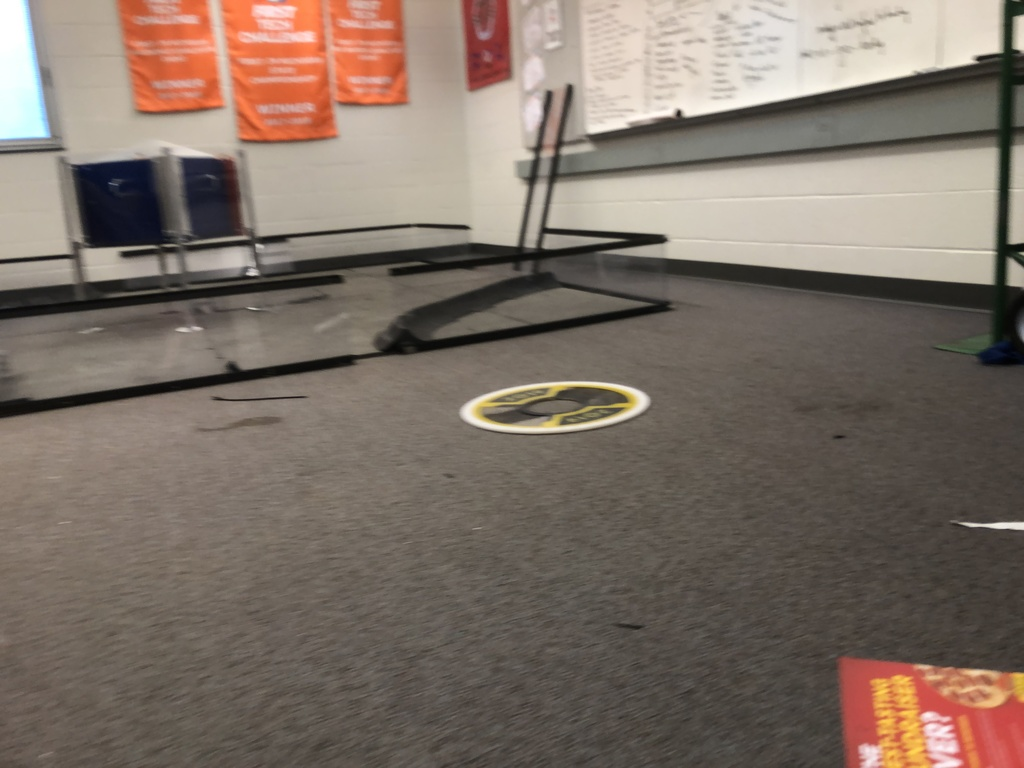hatch_panel: (456, 371, 658, 440)
